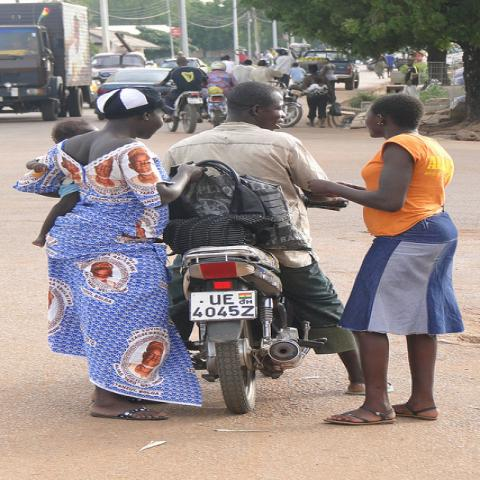car: (95, 68, 174, 121), (302, 50, 361, 90), (90, 52, 149, 84), (187, 58, 208, 73), (159, 58, 182, 68), (366, 60, 375, 71)
motorcycle: (176, 248, 322, 415), (159, 79, 204, 134), (268, 80, 306, 128)
truck: (3, 2, 93, 118), (91, 51, 158, 84)
